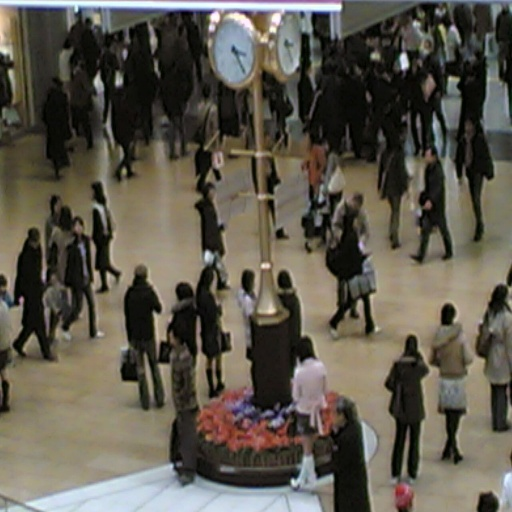hand: (419, 163, 447, 206)
